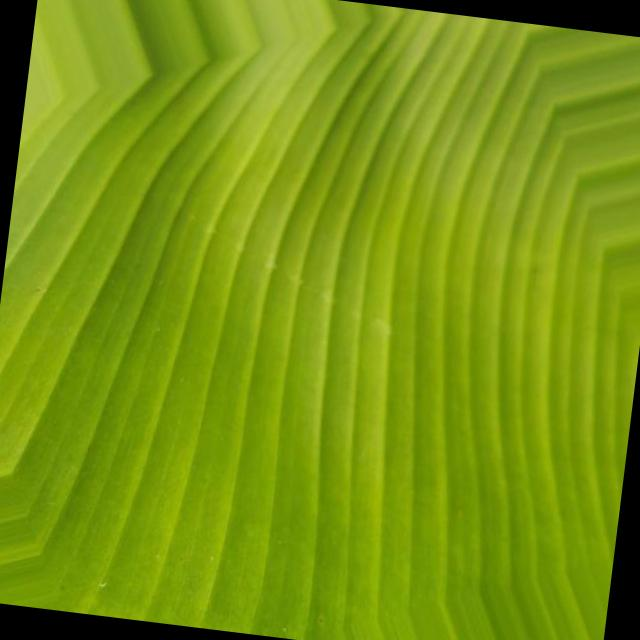Banana_Healthy: (121, 110, 568, 564)
